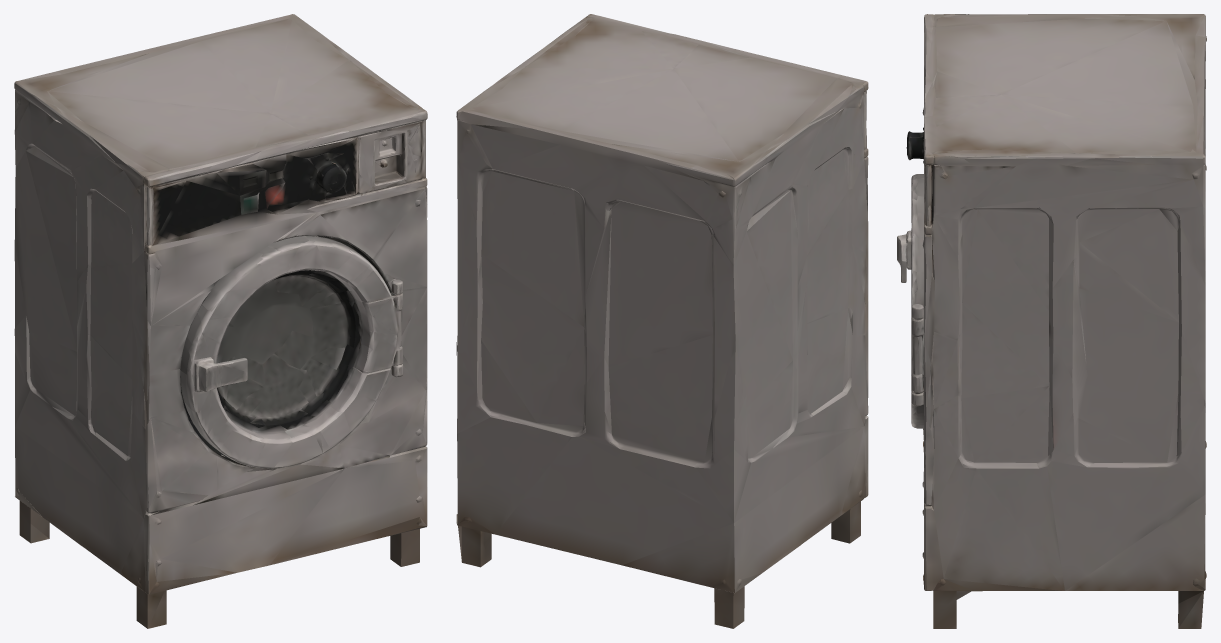
Rendered from washer.glb.
The picture shows the model from 3 angles, left to right: view 1: azimuth 30°, elevation 25°; view 2: azimuth 150°, elevation 25°; view 3: azimuth 270°, elevation 25°; orthographic projection. The views are drawn at different scales.
Visible parts, largest first — view 1: Mesh_0; view 2: Mesh_0; view 3: Mesh_0.
Boxes of the visible parts, x1,y1,x2,y2 form: Mesh_0: (14, 14, 427, 628); Mesh_0: (456, 14, 868, 628); Mesh_0: (897, 14, 1206, 628).
Size of the model in its own units: 1.24 by 1.9 by 1.12.
Materials: 1 (1 with a texture image).
